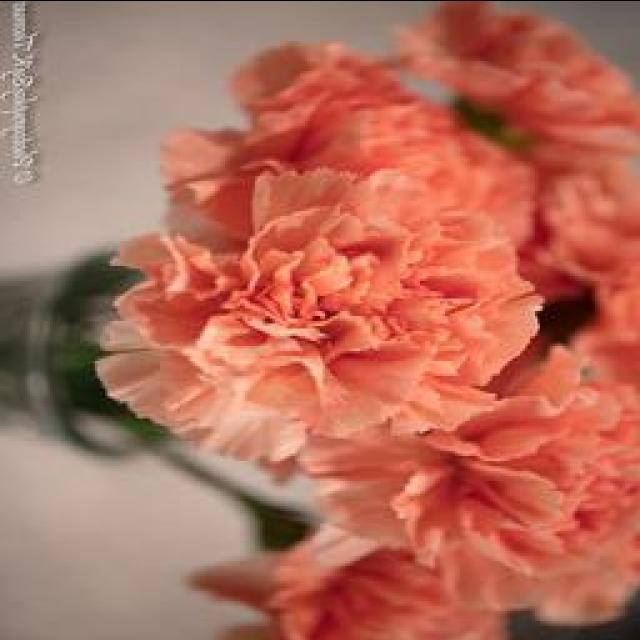carnation: (124, 142, 534, 456)
